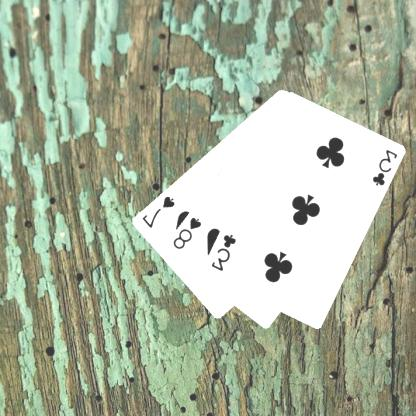3C: (370, 146, 400, 188), (210, 231, 239, 273)
7S: (140, 192, 178, 230)
8S: (171, 214, 205, 250)
